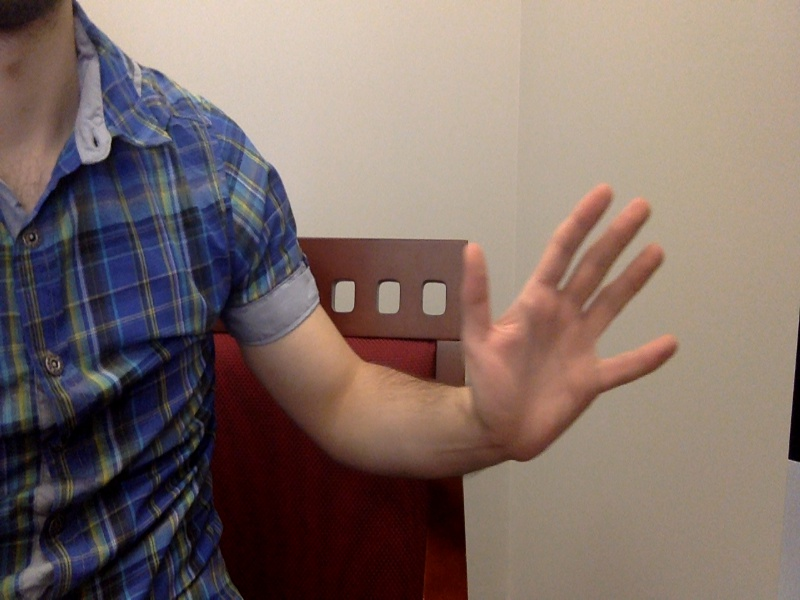5-hand: (457, 182, 684, 474)
